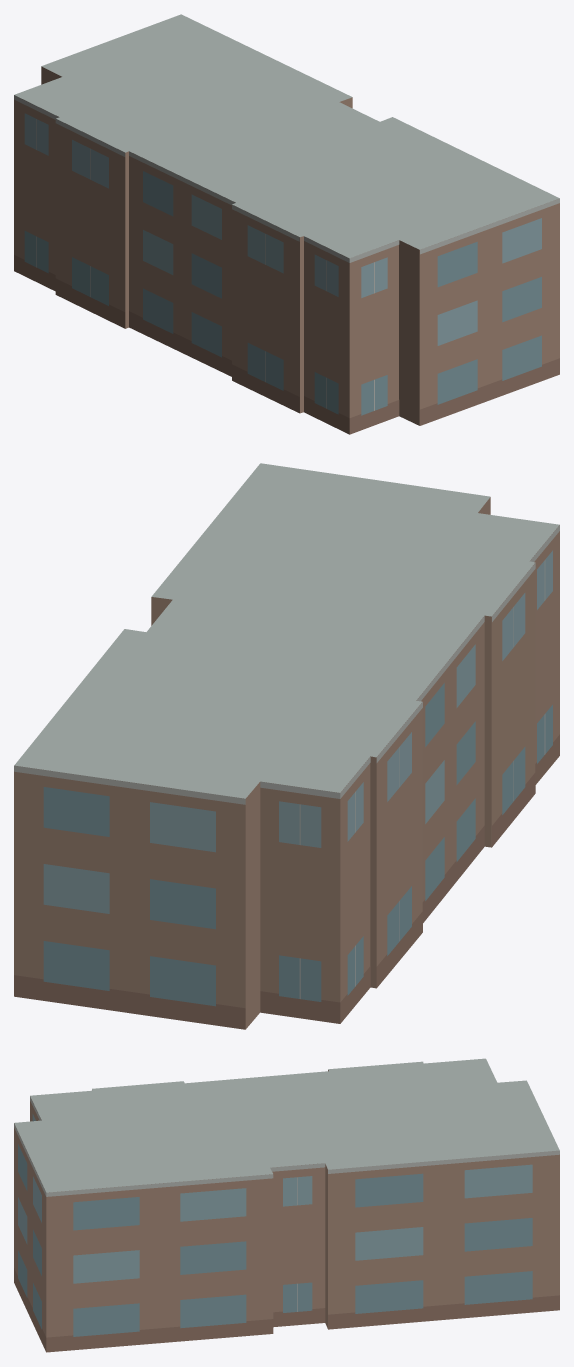
The model's file is survey-upis-32617230.glb.
The picture shows the model from 3 angles, top to bottom: view 1: azimuth 30°, elevation 25°; view 2: azimuth 150°, elevation 25°; view 3: azimuth 270°, elevation 25°; orthographic projection. The views are drawn at different scales.
Visible parts, largest first — view 1: survey-upis-32617230.tmp; view 2: survey-upis-32617230.tmp; view 3: survey-upis-32617230.tmp.
Boxes of the visible parts, x1,y1,x2,y2 form: survey-upis-32617230.tmp: (14,14,559,434); survey-upis-32617230.tmp: (14,463,559,1029); survey-upis-32617230.tmp: (14,1058,559,1352).
Size of the model in its own units: 16.5 by 9.15 by 28.35.
